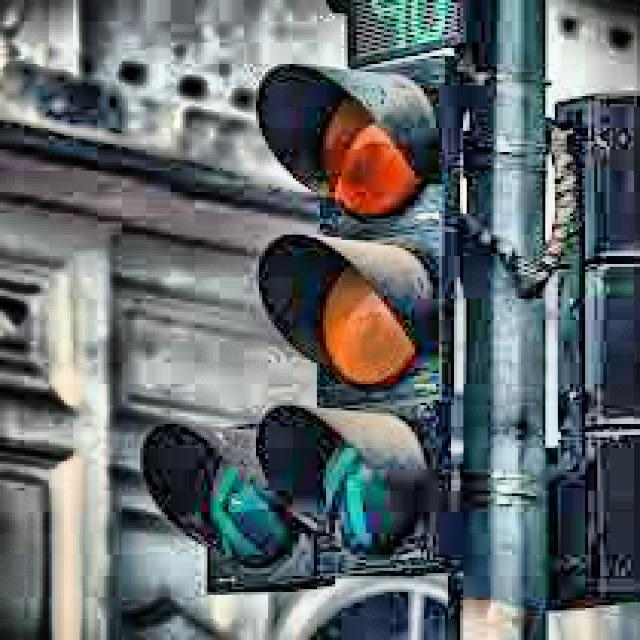yellow: (255, 64, 469, 559)
